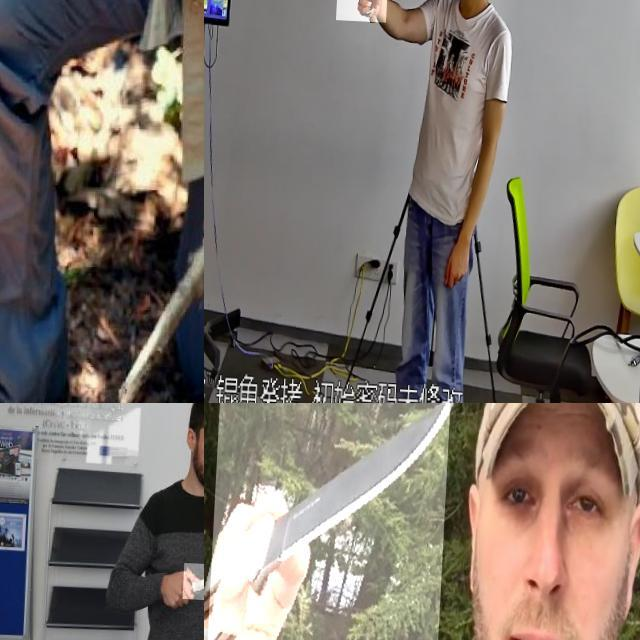-: (211, 403, 454, 640), (0, 59, 69, 318), (186, 559, 204, 597)
gun-knife-thesis - v11 Yolov5 augmented: (338, 0, 391, 36)
